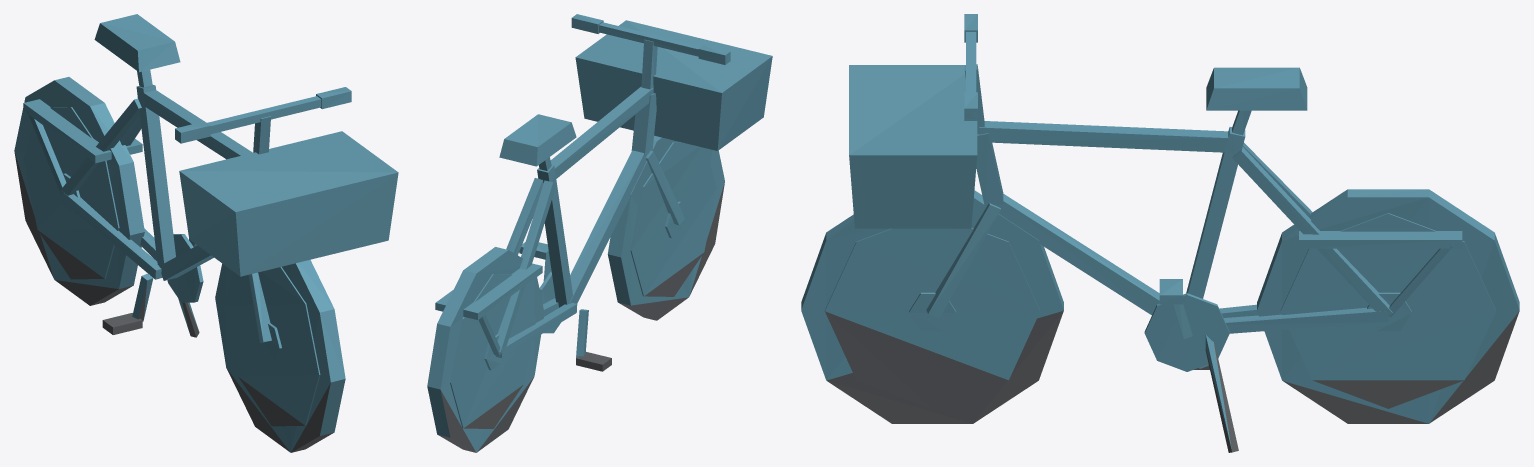
The model's file is bicycle-01.glb.
The picture shows the model from 3 angles, left to right: view 1: azimuth 30°, elevation 25°; view 2: azimuth 150°, elevation 25°; view 3: azimuth 270°, elevation 25°; orthographic projection. The views are drawn at different scales.
Parts seen in each view (by area): view 1: bicycle_01; view 2: bicycle_01; view 3: bicycle_01.
Part boxes in pixels (x1,y1,x2,y2): bicycle_01: (14,14,398,452); bicycle_01: (427,14,772,452); bicycle_01: (801,14,1519,452).
Size of the model in its own units: 0.5767 by 1.04 by 1.85.
